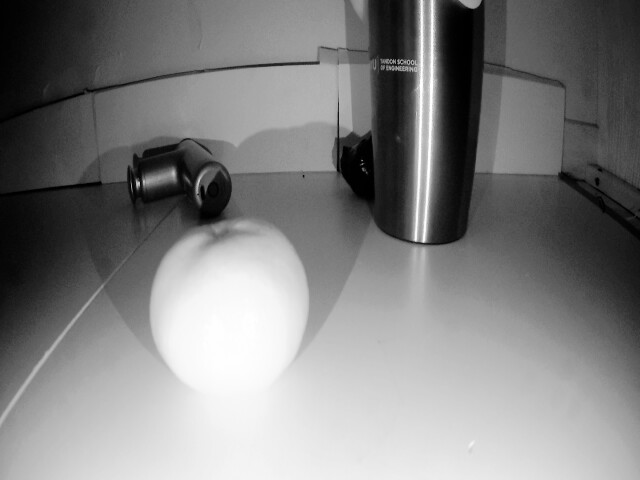silver: (345, 142, 378, 199)
